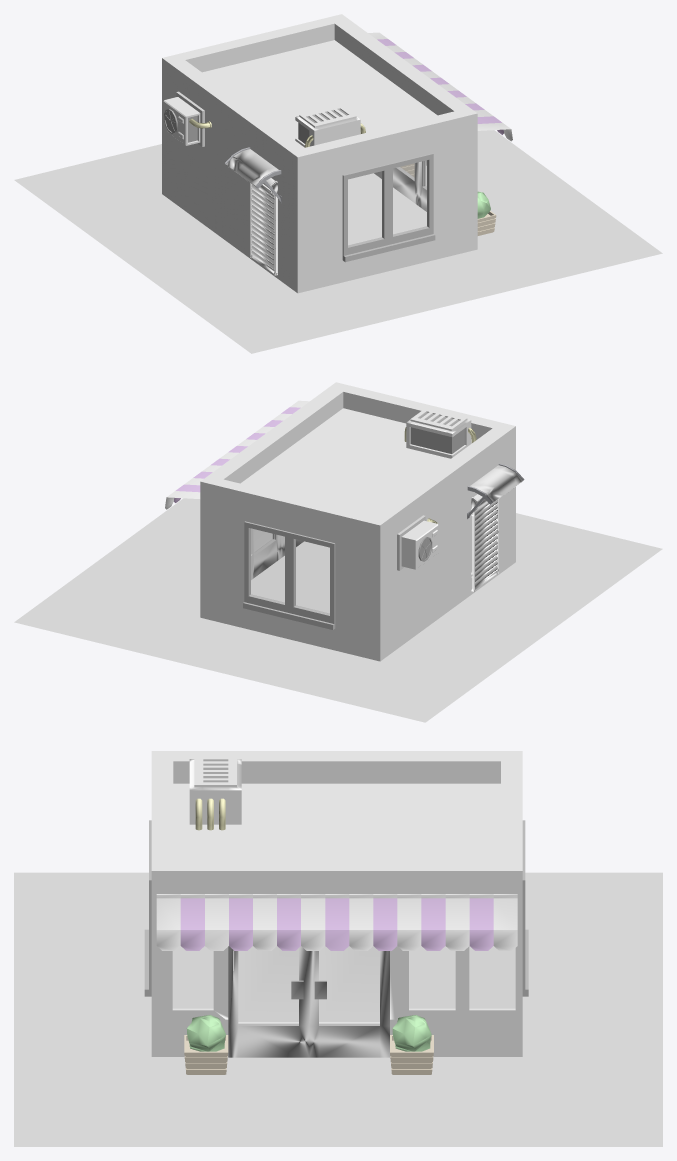
Rendered from CoffeeShop_final_2.fbx.
3 views of the same model, one above another, from view 1: azimuth 30°, elevation 25°; view 2: azimuth 150°, elevation 25°; view 3: azimuth 270°, elevation 25° (orthographic). The views are drawn at different scales.
Visible parts, largest first — view 1: ShopBody, ShopWalls; view 2: ShopBody, ShopWalls, ShopWindow_Left, ShopWindow_Right; view 3: ShopBody, ShopWalls, ShopDoor_Left, ShopDoor_Right.
Boxes of the visible parts, box(x1,y1,x2,y2) form: ShopBody: box(14, 39, 662, 353); ShopWalls: box(162, 14, 512, 293); ShopBody: box(14, 407, 662, 722); ShopWalls: box(165, 382, 515, 661); ShopWindow_Left: box(296, 540, 329, 613); ShopWindow_Right: box(251, 529, 284, 602); ShopBody: box(14, 757, 662, 1146); ShopWalls: box(151, 751, 522, 1056); ShopDoor_Left: box(319, 946, 379, 1021); ShopDoor_Right: box(239, 947, 298, 1021).
Size of the model in its own units: 255 by 87.38 by 255.
